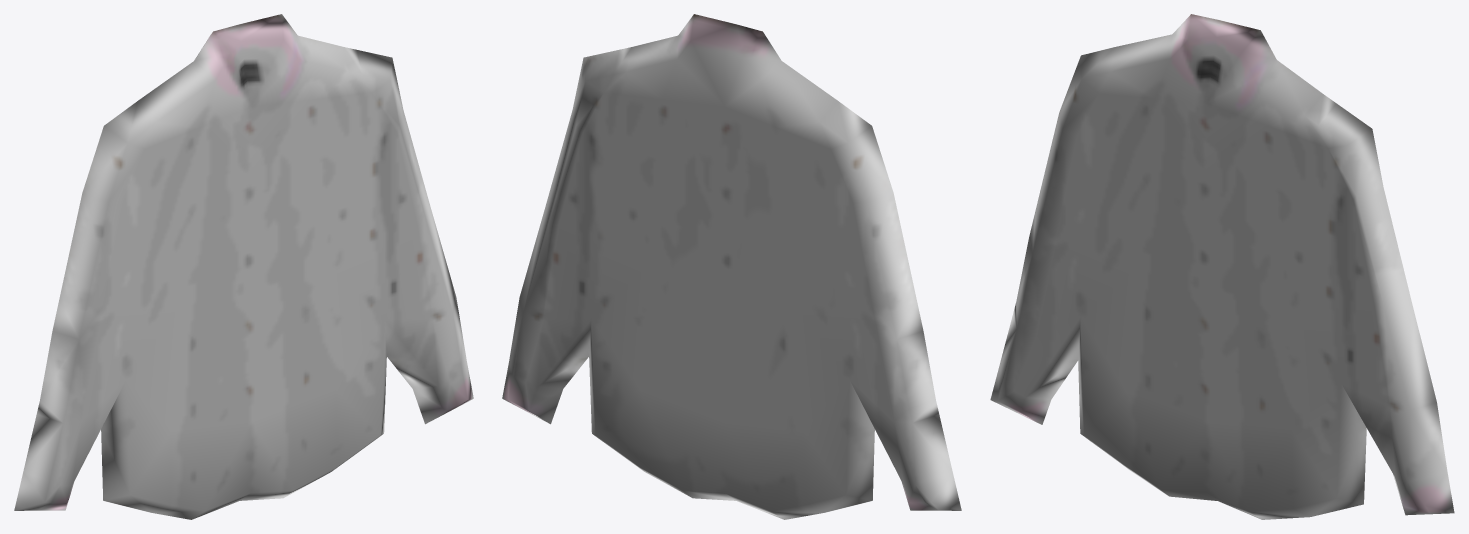
Rendered from prop_fuku01.fbx.
The picture shows the model from 3 angles, left to right: view 1: azimuth 30°, elevation 25°; view 2: azimuth 150°, elevation 25°; view 3: azimuth 330°, elevation 25°; orthographic projection.
Parts seen in each view (by area): view 1: prop_fuku01; view 2: prop_fuku01; view 3: prop_fuku01.
Boxes of the visible parts, x1,y1,x2,y2 form: prop_fuku01: (14, 14, 473, 519); prop_fuku01: (502, 14, 961, 519); prop_fuku01: (990, 14, 1454, 519).
Bounding box in the file's own units: 0.67 × 0.675 × 0.0583.
